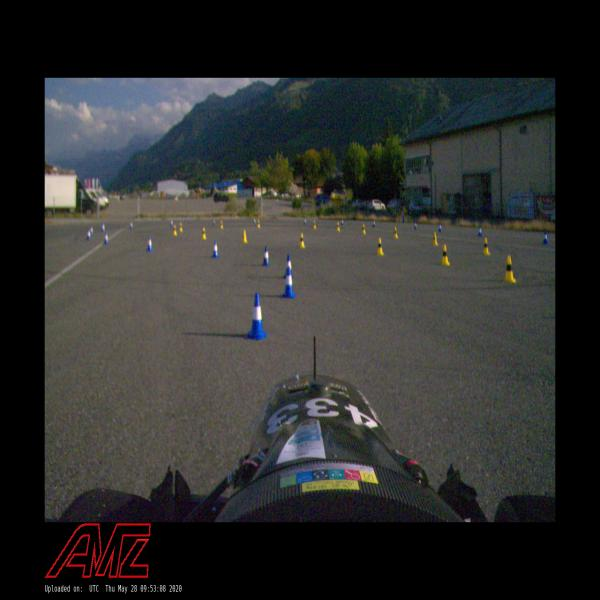blue_cone: (246, 292, 268, 340), (282, 267, 295, 299), (283, 255, 294, 278), (262, 246, 271, 266), (212, 240, 219, 258), (542, 231, 549, 245), (147, 236, 153, 251), (104, 232, 110, 245), (87, 229, 91, 240), (478, 226, 482, 237), (101, 223, 105, 233), (90, 226, 94, 236), (170, 219, 174, 226), (130, 220, 133, 229), (414, 221, 417, 230), (439, 224, 442, 232), (341, 219, 344, 225), (254, 218, 256, 226), (373, 221, 375, 227), (304, 218, 306, 224), (213, 220, 215, 226)
yellow_cone: (504, 256, 516, 283), (440, 245, 450, 266), (482, 238, 490, 256), (377, 238, 384, 256), (241, 230, 248, 243), (432, 232, 438, 246), (299, 234, 305, 248), (202, 228, 207, 240), (393, 227, 398, 239), (219, 220, 224, 229), (173, 225, 177, 236), (179, 222, 183, 232), (362, 224, 366, 234), (337, 222, 340, 232), (313, 220, 316, 228), (258, 220, 260, 228)
